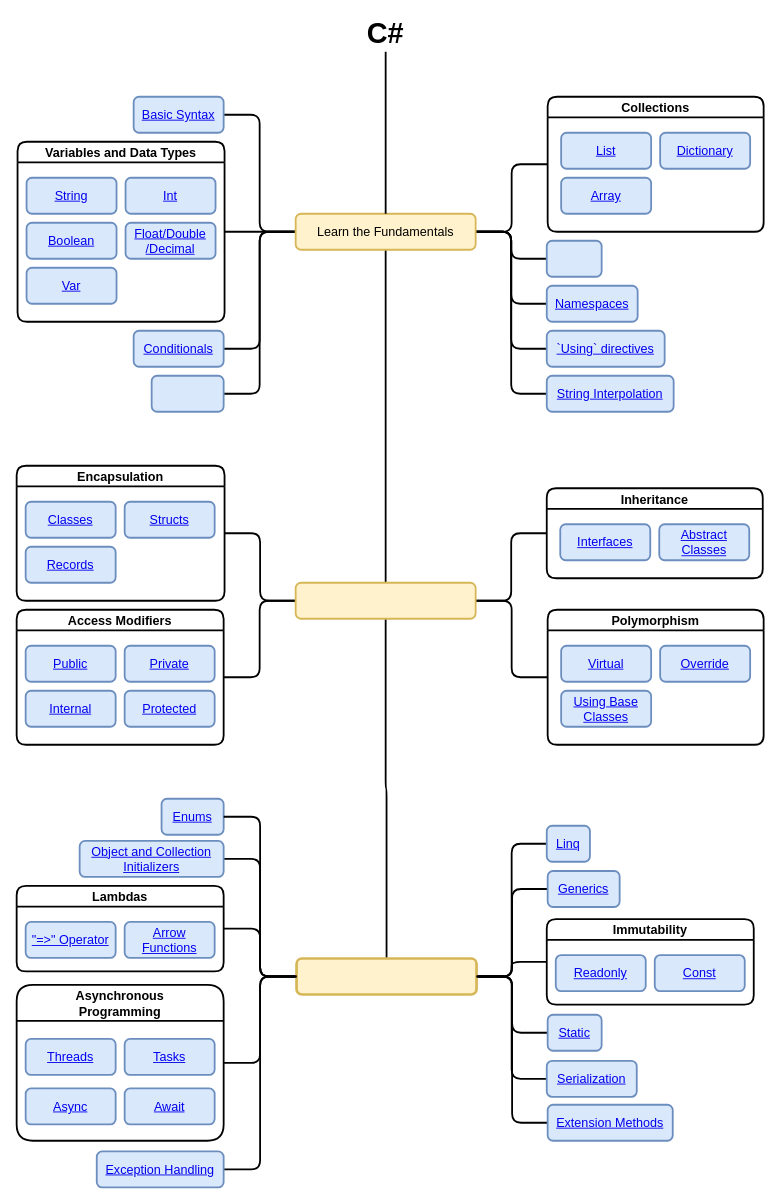
Some shapes in this 779 by 1203 pixel diagram are drawn without their labels. The centre of each missing label's shape, as x and y in pixels:
"Going Deeper" goes at point 386,976.
"Loops" goes at point 573,258.
"Methods" goes at point 187,393.
"Object-Oriented Programming" goes at point 385,600.
